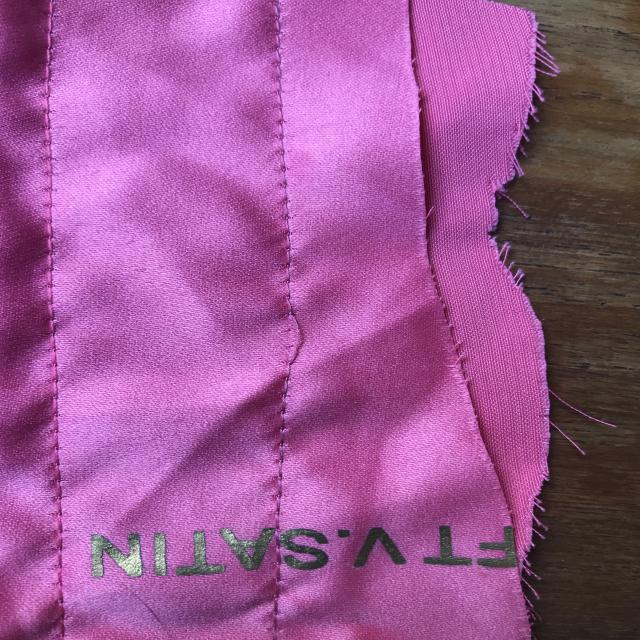skip: (273, 305, 320, 388)
